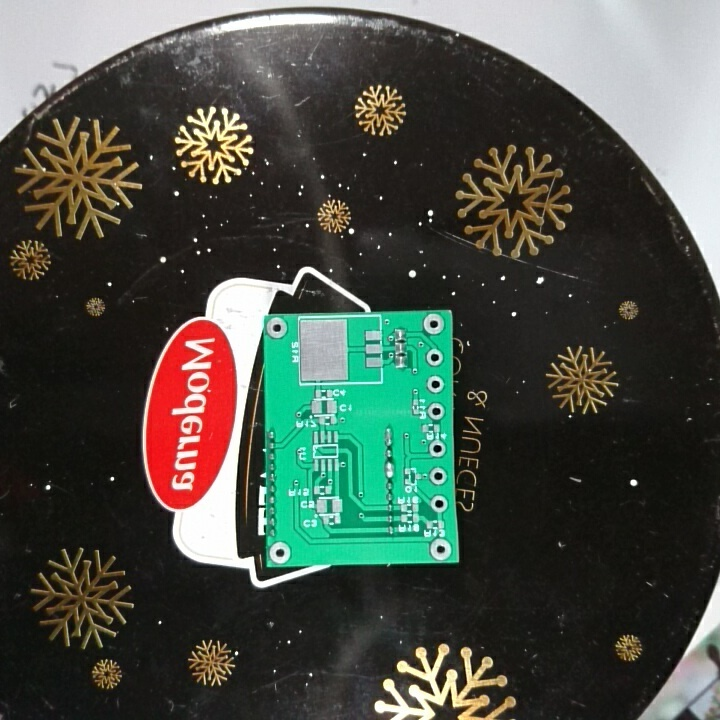F: (421, 313, 447, 338), (428, 536, 453, 562), (264, 315, 289, 340), (268, 541, 293, 564), (424, 346, 445, 368), (428, 466, 448, 489), (425, 374, 446, 395), (426, 401, 448, 421), (429, 494, 449, 514), (427, 439, 446, 459)
P: (383, 426, 395, 449), (384, 460, 397, 481)
